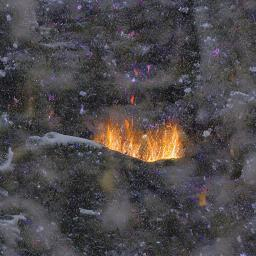Small fire: (90, 91, 194, 166)
